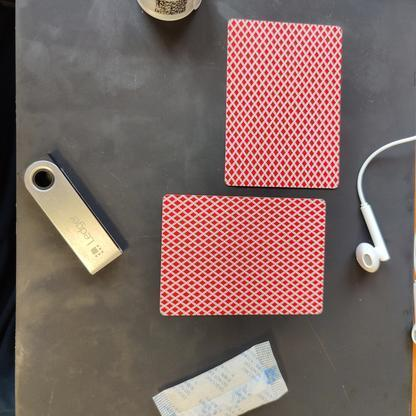card: (208, 11, 356, 195), (147, 187, 333, 328)
